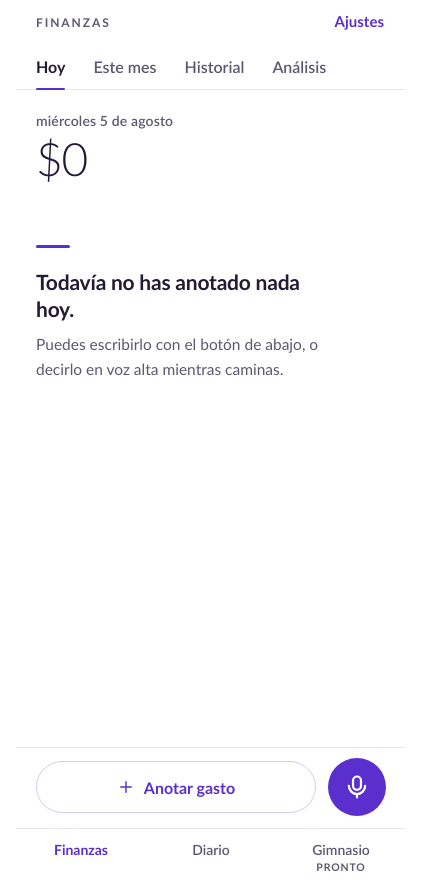
Scenario: criteria 16.1, 16.2, 16.5, 16.6 — Historial is reachable and says what order it is in › is a fourth Finanzas tab, reachable from another tab in one interaction
The width and height of the screenshot is (423, 888).
Click the link "Historial". click: (214, 66)
box: [185,56,244,76]
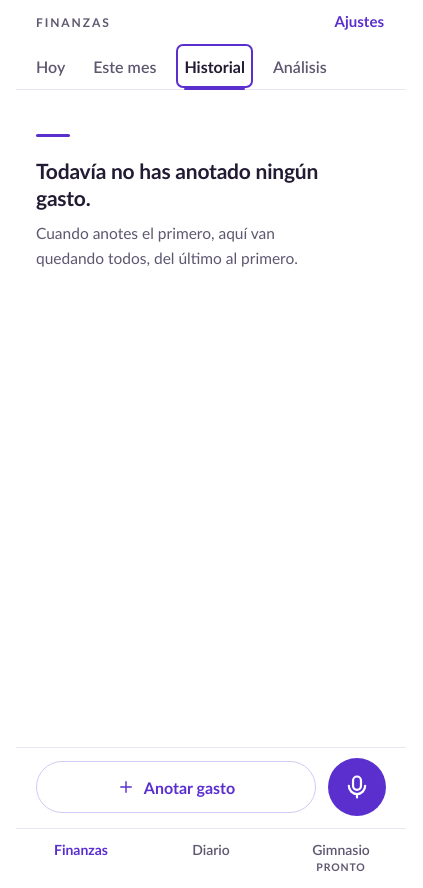
Expected: the heading "Todavía no has anotado ningún gasto." is shown, [36,156,326,211]
